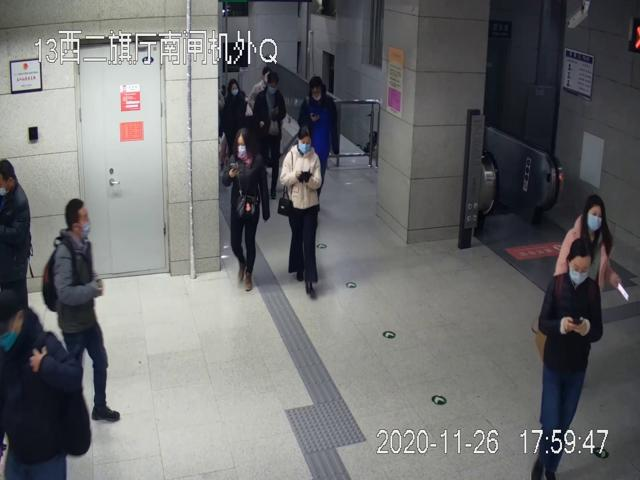person: (43, 198, 121, 421), (532, 236, 603, 475), (551, 194, 623, 320), (221, 126, 270, 291), (279, 126, 323, 299), (297, 78, 341, 219), (252, 72, 287, 202)
